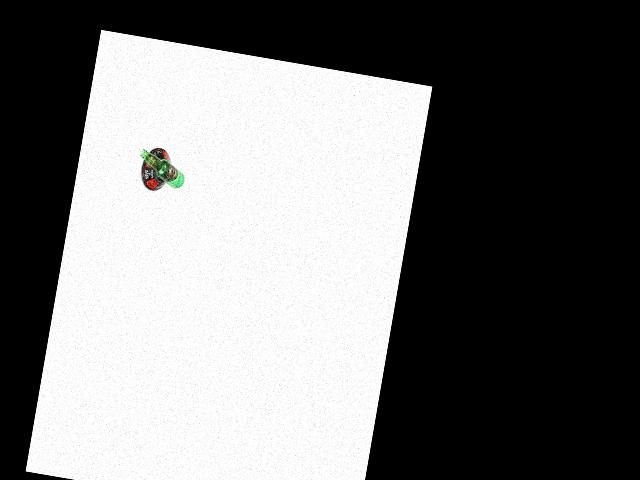beer: (135, 149, 187, 190)
